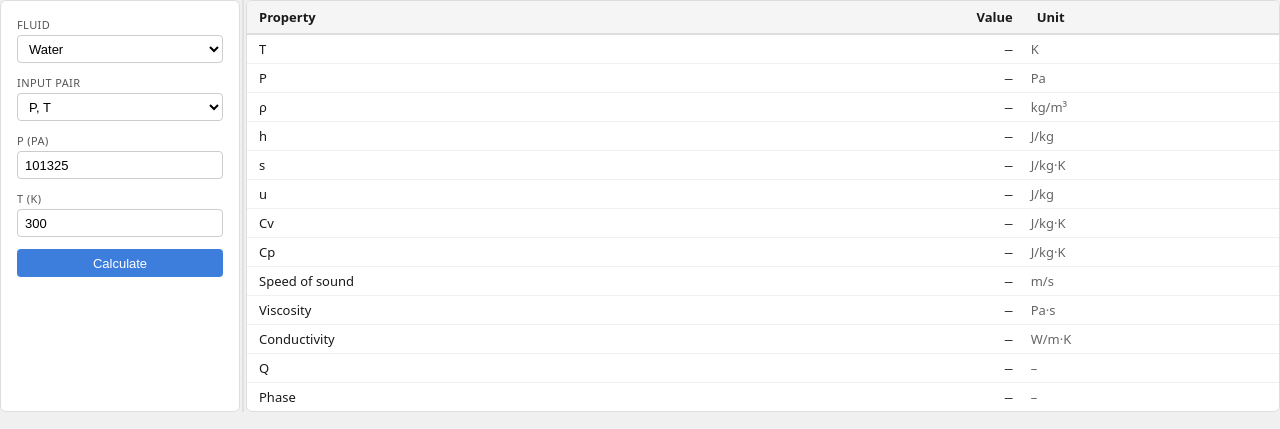
Test case: PropertyCalculator › switching the input pair updates labels and default values
Select "h, s" in the dropdown below "Input pair" at (120, 107), box [17, 93, 223, 121]
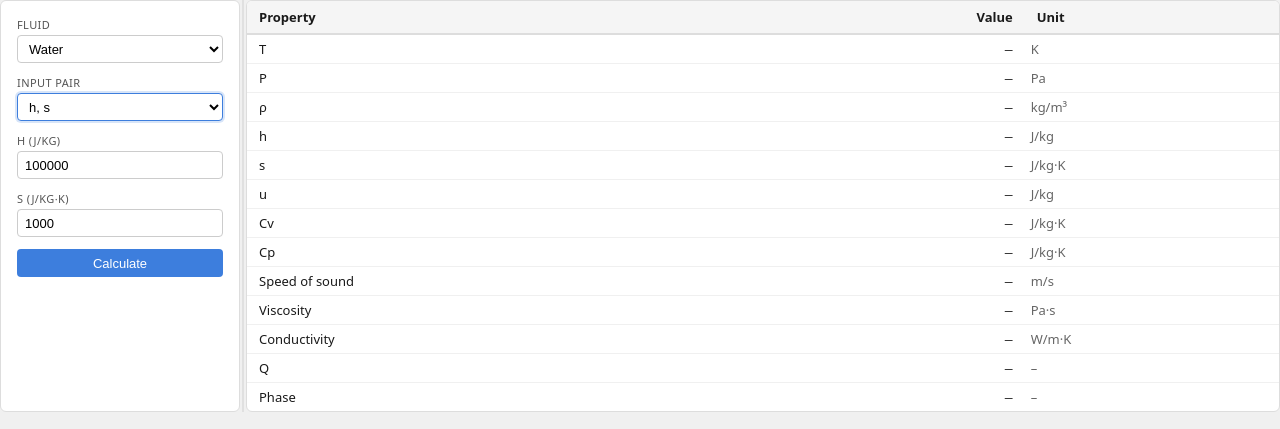
Check: the number field below "h (J/kg)" holds "100000", box [17, 151, 223, 179]
Check: the number field below "s (J/kg·K)" holds "1000", box [17, 209, 223, 237]
